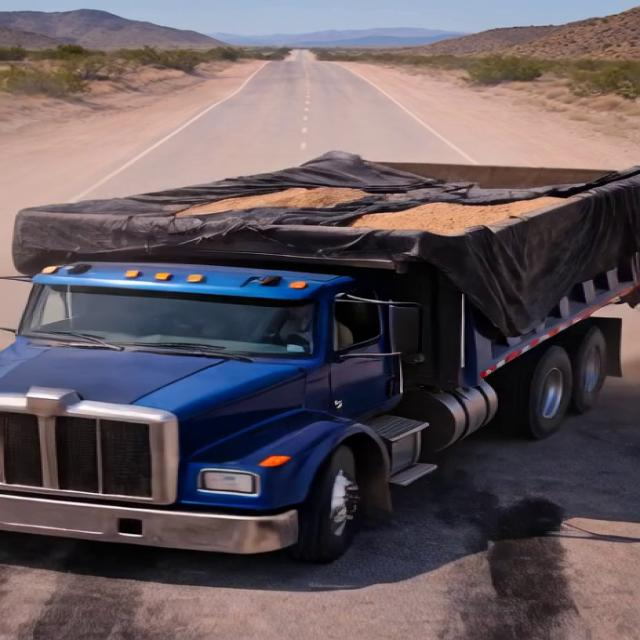trailer: (30, 149, 630, 237)
truck: (6, 113, 627, 575)
